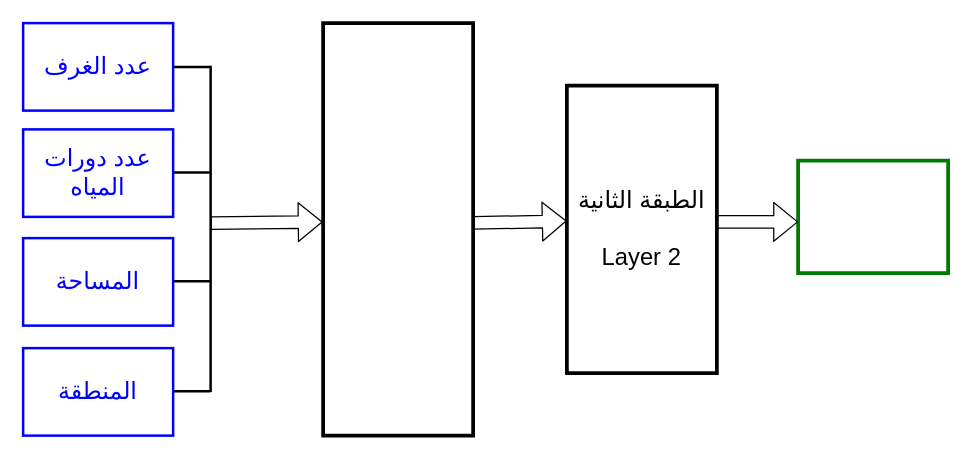
Image size: 971x459. Some labels were removed from this diagram. Each missing label, with the centre of its shape:
"الطبقة الأولى Layer 1" goes at point 397,229.
"سعر المنزل Price" goes at point 872,216.
